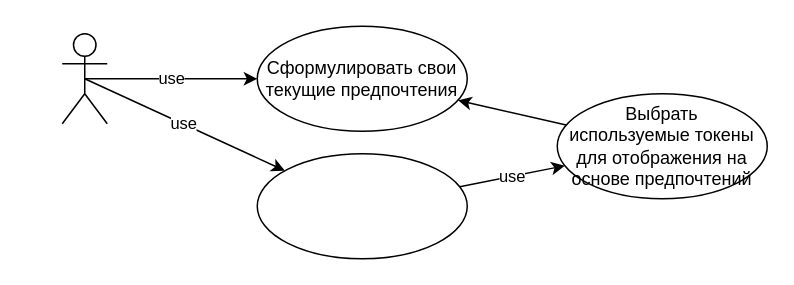
Image size: 794x285. Some labels were removed from this diagram. The box of each missing label's shape, as (x1, y1, x2, y2) in pixels:
Получить предпочтительное представление документа: (256, 152, 467, 259)
Пользователь: (61, 32, 107, 124)
